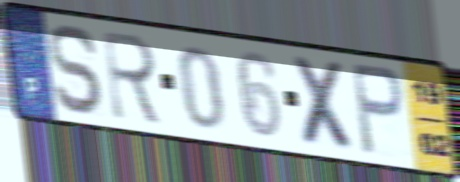0: (174, 43, 230, 132)
6: (234, 48, 285, 141)
P: (349, 59, 407, 159)
R: (101, 27, 167, 129)
S: (47, 21, 108, 119)
X: (288, 52, 362, 156)
